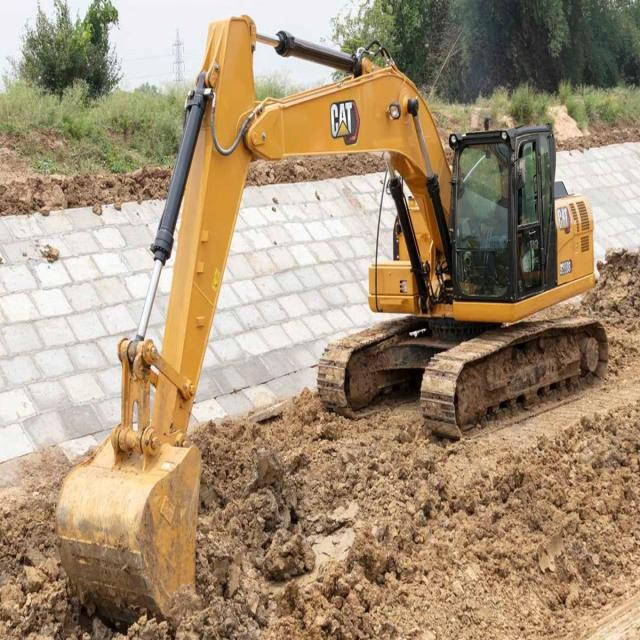excavator: (54, 12, 609, 632)
